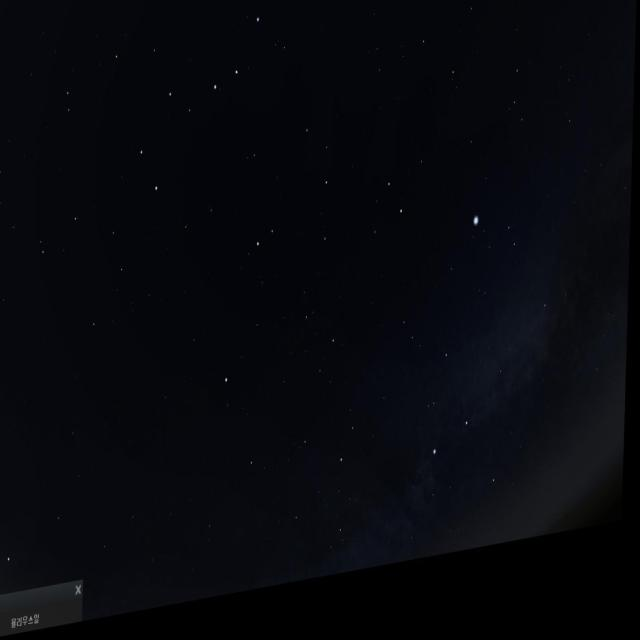cygnus: (424, 334, 556, 526)
lyra: (467, 214, 528, 299)
ursa_major: (131, 24, 272, 212)
